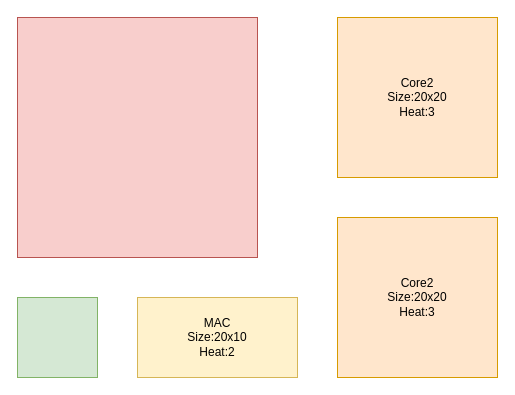
This 515x395 diagram has some shape labels left out. The centre of each missing label's shape, as x and y in pixels:
"Core1 Size:30x30 Heat:5" goes at pixel 137 137.
"IO 10x10 1" goes at pixel 57 337.
